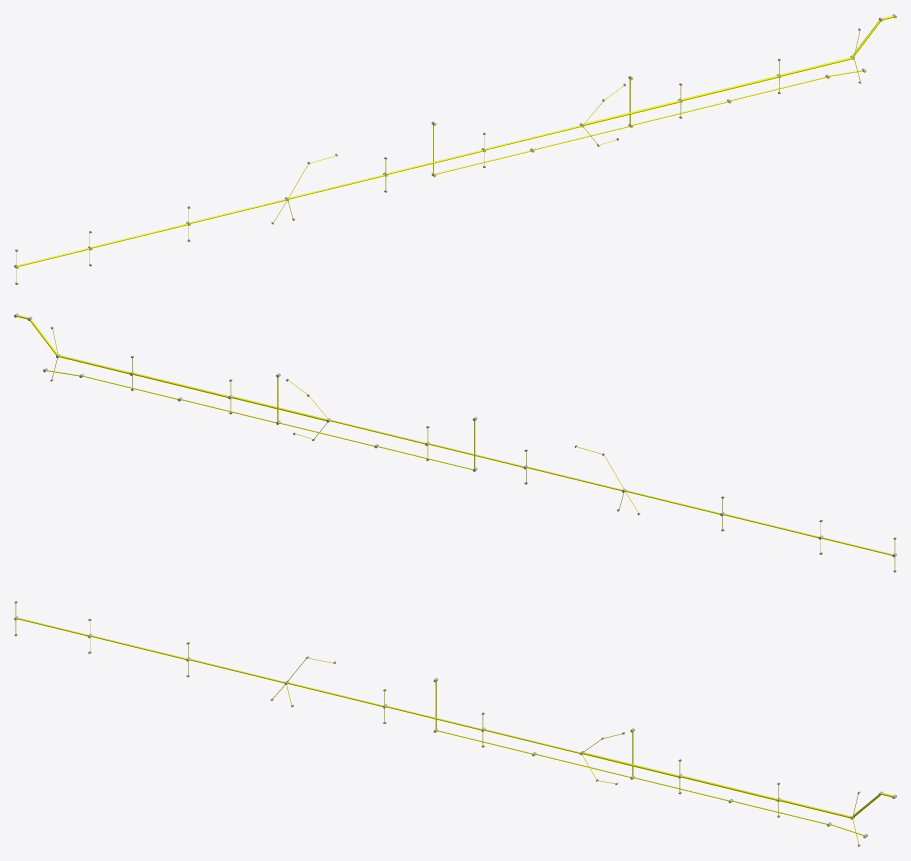
The model's file is pipeModel.glb.
3 renders of one model, top to bottom at view 1: azimuth 30°, elevation 25°; view 2: azimuth 150°, elevation 25°; view 3: azimuth 330°, elevation 25°, orthographic.
Bounding box in the file's own units: 358 × 25.71 × 5.82.
